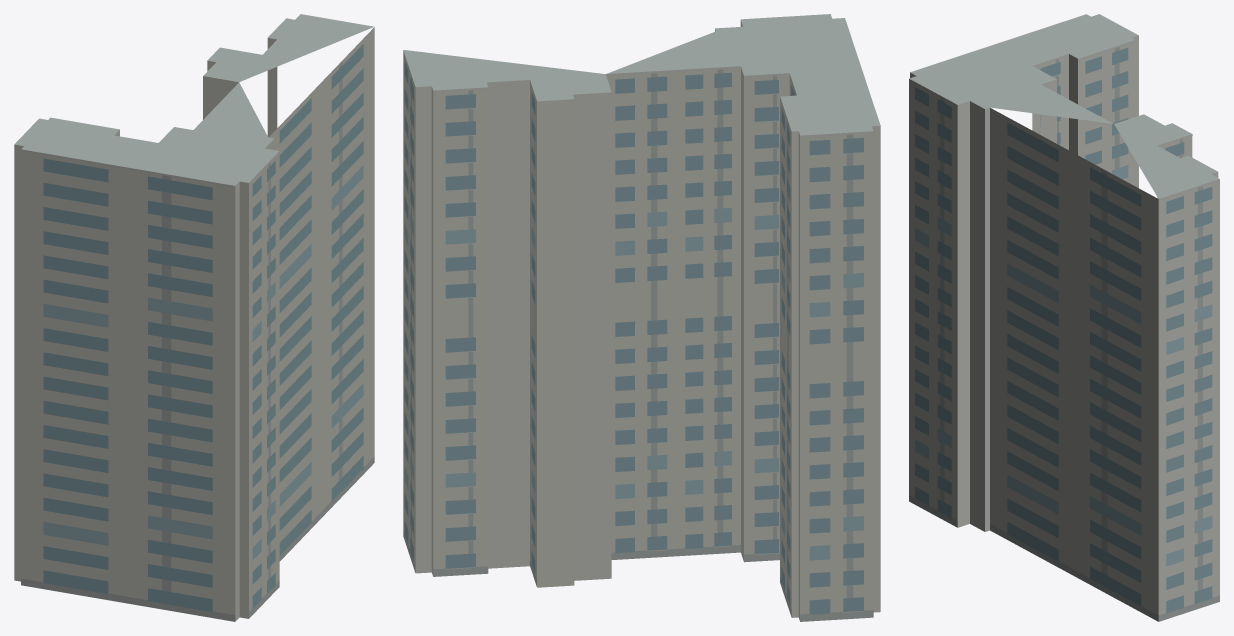
The model's file is residential-ebbbb68c-eb0e-4373-828b-56b44f839529.glb.
3 views of the same model, side by side, from view 1: azimuth 30°, elevation 25°; view 2: azimuth 150°, elevation 25°; view 3: azimuth 270°, elevation 25° (orthographic). The views are drawn at different scales.
Visible parts, largest first — view 1: residential-ebbbb68c-eb0e-4373-828b-56b44f839529.tmp; view 2: residential-ebbbb68c-eb0e-4373-828b-56b44f839529.tmp; view 3: residential-ebbbb68c-eb0e-4373-828b-56b44f839529.tmp.
Part boxes in pixels (x1,y1,x2,y2): residential-ebbbb68c-eb0e-4373-828b-56b44f839529.tmp: [14, 14, 374, 621]; residential-ebbbb68c-eb0e-4373-828b-56b44f839529.tmp: [403, 14, 880, 621]; residential-ebbbb68c-eb0e-4373-828b-56b44f839529.tmp: [909, 14, 1219, 621].
Bounding box in the file's own units: 53.51 × 57 × 37.98.
